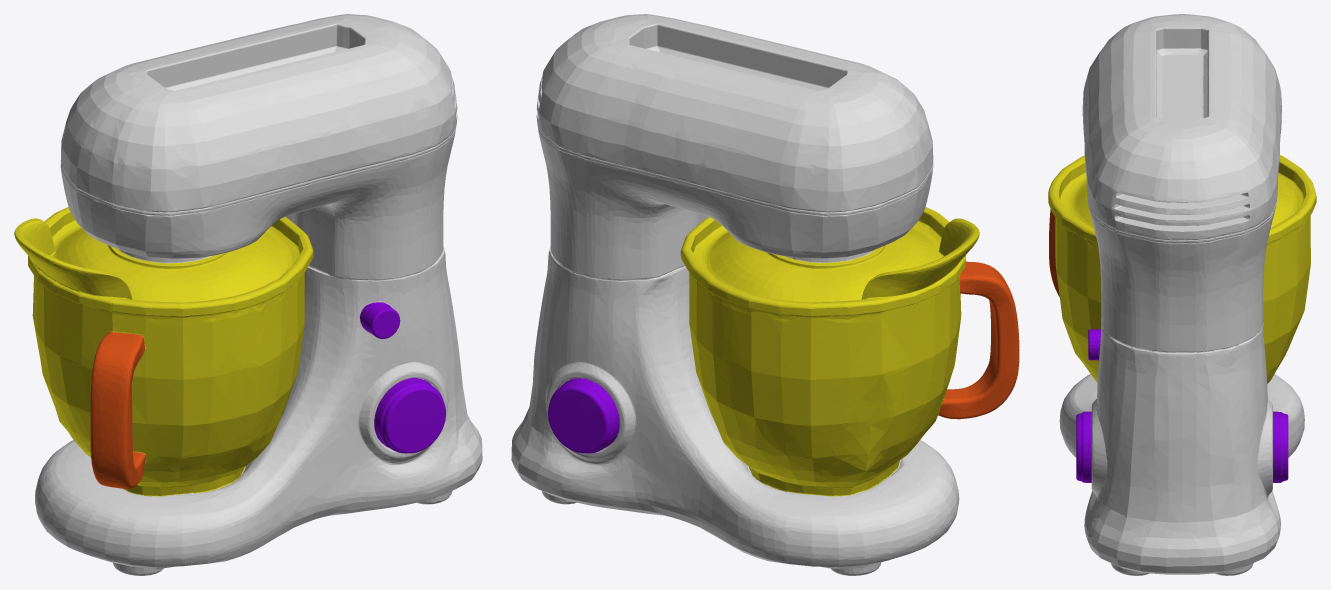
The model's file is MDL_Batedeira.fbx.
3 renders of one model, left to right at view 1: azimuth 30°, elevation 25°; view 2: azimuth 150°, elevation 25°; view 3: azimuth 270°, elevation 25°, orthographic. The views are drawn at different scales.
Visible parts, largest first — view 1: model_part2.010, model_part0.023; view 2: model_part2.010, model_part0.023; view 3: model_part2.010, model_part0.023.
Part boxes in pixels (x1=…): model_part2.010: x1=35, y1=14, x2=482, y2=575; model_part0.023: x1=14, y1=207, x2=445, y2=496; model_part2.010: x1=511, y1=14, x2=959, y2=575; model_part0.023: x1=548, y1=207, x2=1019, y2=496; model_part2.010: x1=1059, y1=14, x2=1304, y2=575; model_part0.023: x1=1048, y1=155, x2=1316, y2=482.
Size of the model in its own units: 105 by 105 by 59.98.
